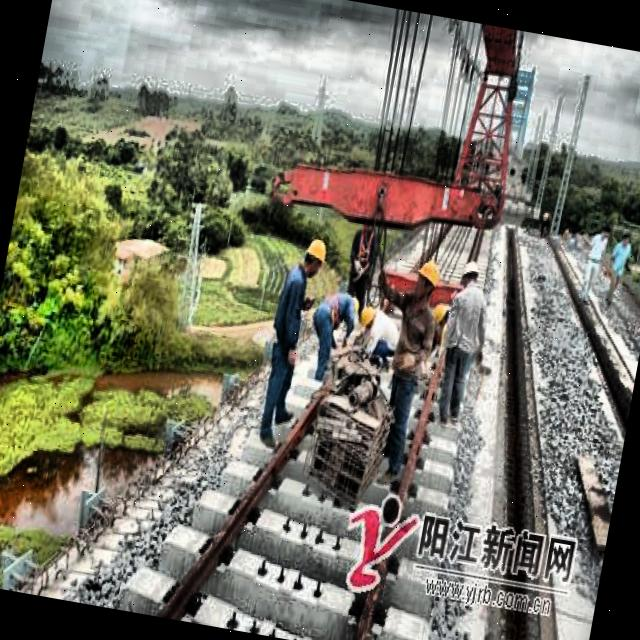helmet: (406, 248, 442, 304), (298, 232, 333, 281), (426, 297, 458, 334), (456, 256, 484, 296), (358, 301, 382, 333)
